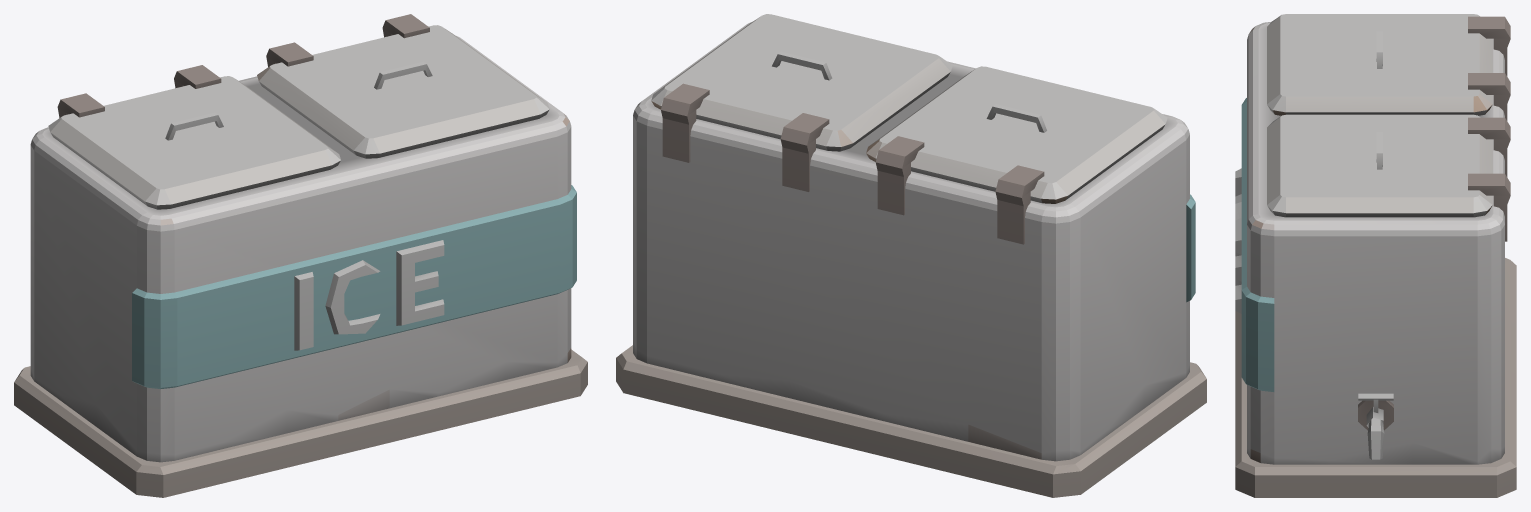
Rendered from ice.glb.
3 renders of one model, left to right at view 1: azimuth 30°, elevation 25°; view 2: azimuth 150°, elevation 25°; view 3: azimuth 270°, elevation 25°, orthographic. The views are drawn at different scales.
Visible parts, largest first — view 1: ice; view 2: ice; view 3: ice.
Part boxes in pixels (x1,y1,x2,y2): ice: (14, 14, 587, 497); ice: (616, 14, 1206, 497); ice: (1235, 14, 1516, 497).
Bounding box in the file's own units: 1.43 × 0.8379 × 0.72.
